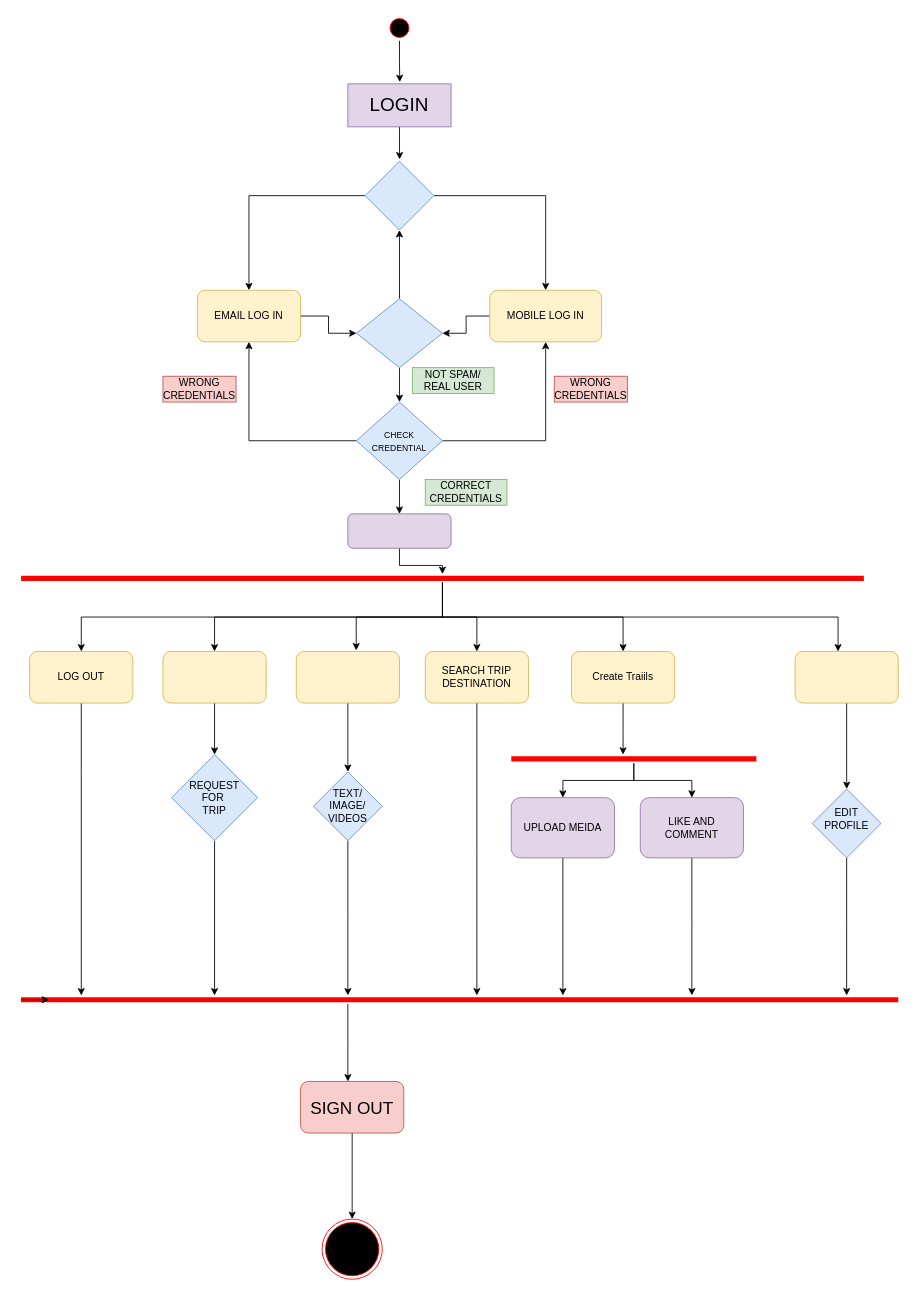
Image size: 916x1294. Some labels were removed from this diagram. Here are the shapes that lost their labels. From the top down, the centre of each, then its label:
the point at 399,195: EMAIL/ PHONE
the point at 399,333: SPAM FILTER
the point at 399,530: HOME SCREEN
the point at 214,677: TRIPS
the point at 347,677: CHAT
the point at 846,677: USER PROFILE
